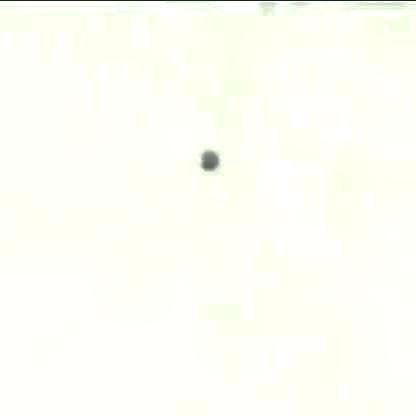golfball: (196, 147, 218, 169)
